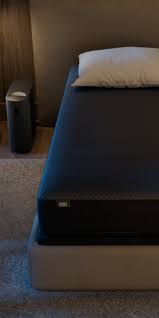bed-matress: (42, 56, 159, 245)
